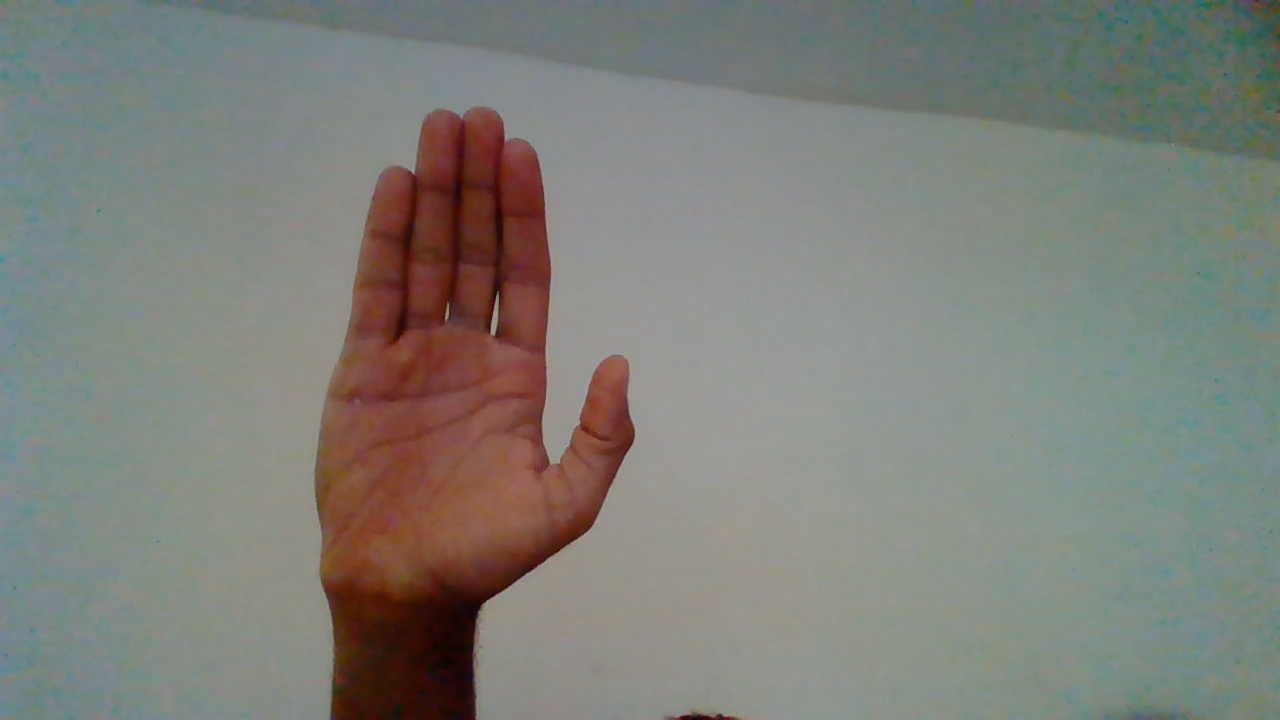ha: (318, 102, 644, 720)
